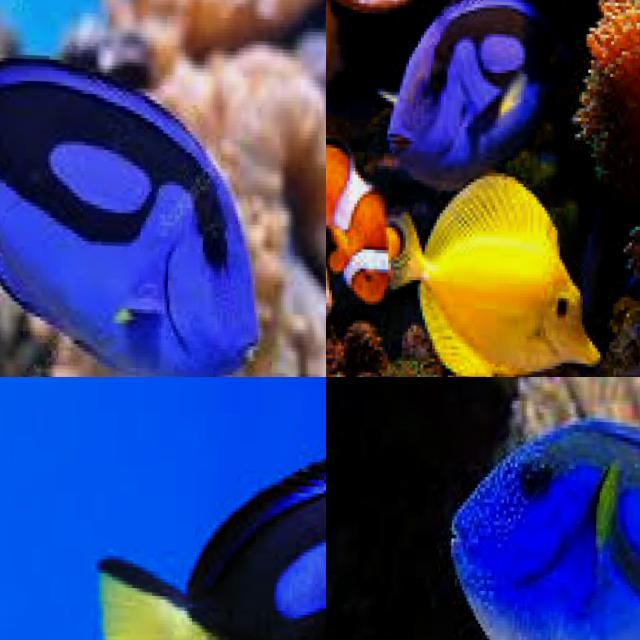BlueTang: (0, 64, 252, 377), (449, 416, 640, 640), (103, 455, 326, 640), (374, 0, 533, 168)
ButterflyFish: (403, 170, 602, 375)
ClownFish: (324, 144, 394, 309)
